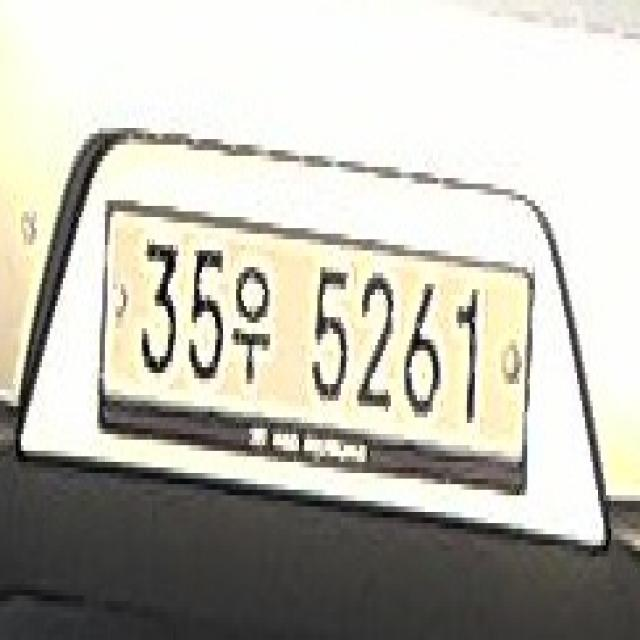1: (457, 289, 482, 423)
2: (354, 273, 396, 412)
3: (142, 234, 178, 378)
5: (309, 256, 352, 406), (186, 239, 228, 384)
6: (402, 278, 444, 418)
license_plate: (97, 195, 533, 473)
u: (231, 256, 273, 390)
